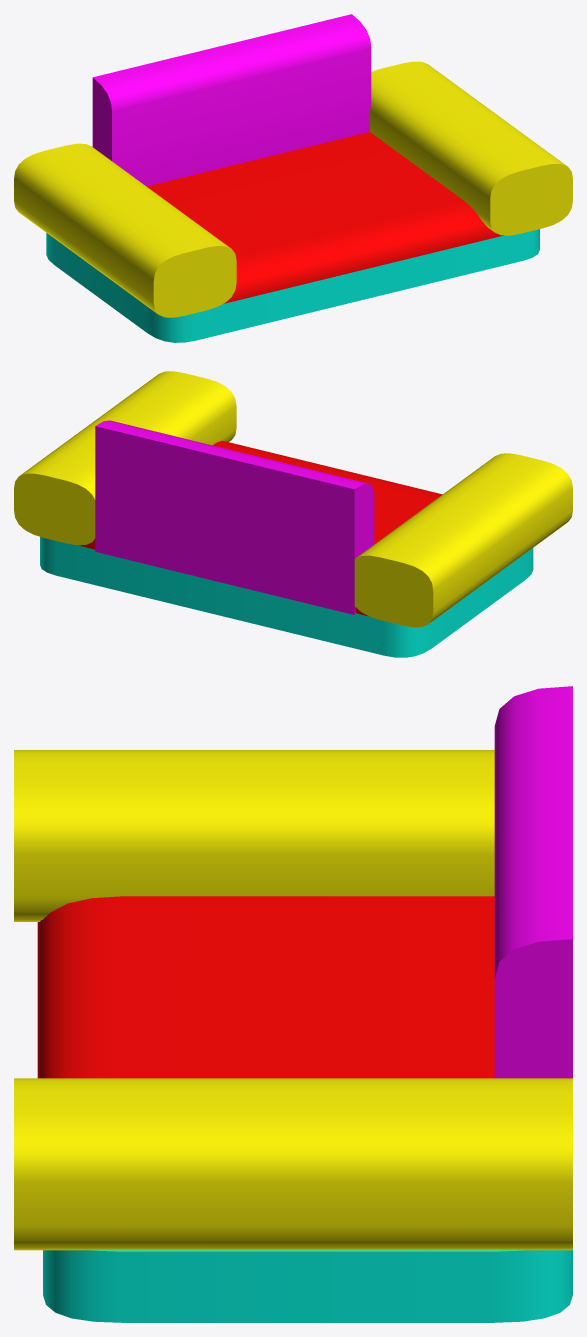
File: umgebung_roy_sessel_low.FBX
3 renders of one model, top to bottom at view 1: azimuth 30°, elevation 25°; view 2: azimuth 150°, elevation 25°; view 3: azimuth 270°, elevation 25°, orthographic. The views are drawn at different scales.
Visible parts, largest first — view 1: o_roy_rueckenlehne_low, o_roy_pillow_low, o_roy_lehne_low, i_roy_lehne_low, o_roy_sitzflaesche_low; view 2: o_roy_rueckenlehne_low, o_roy_lehne_low, o_roy_sitzflaesche_low, i_roy_lehne_low, o_roy_pillow_low; view 3: i_roy_lehne_low, o_roy_pillow_low, o_roy_lehne_low, o_roy_sitzflaesche_low, o_roy_rueckenlehne_low.
Boxes of the visible parts, bbox=[...] form: o_roy_rueckenlehne_low: bbox=[92, 14, 371, 186]; o_roy_pillow_low: bbox=[147, 132, 503, 303]; o_roy_lehne_low: bbox=[14, 143, 236, 317]; i_roy_lehne_low: bbox=[370, 61, 572, 235]; o_roy_sitzflaesche_low: bbox=[46, 229, 539, 342]; o_roy_rueckenlehne_low: bbox=[95, 420, 374, 614]; o_roy_lehne_low: bbox=[354, 453, 572, 627]; o_roy_sitzflaesche_low: bbox=[40, 537, 533, 657]; i_roy_lehne_low: bbox=[14, 371, 236, 545]; o_roy_pillow_low: bbox=[78, 440, 442, 616]; i_roy_lehne_low: bbox=[14, 1078, 572, 1250]; o_roy_pillow_low: bbox=[37, 896, 494, 1078]; o_roy_lehne_low: bbox=[14, 750, 494, 921]; o_roy_sitzflaesche_low: bbox=[43, 1250, 572, 1322]; o_roy_rueckenlehne_low: bbox=[494, 686, 572, 1078].
Size of the model in its own units: 304 by 176 by 110.
